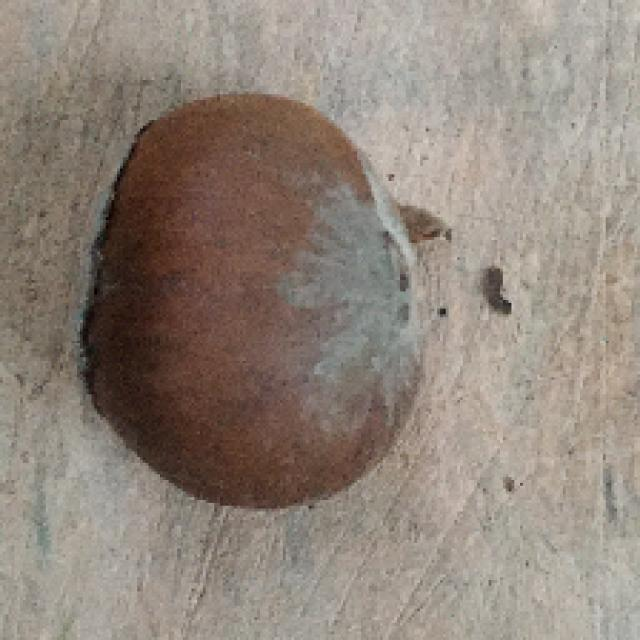damagedHazelnut: (80, 82, 432, 508)
